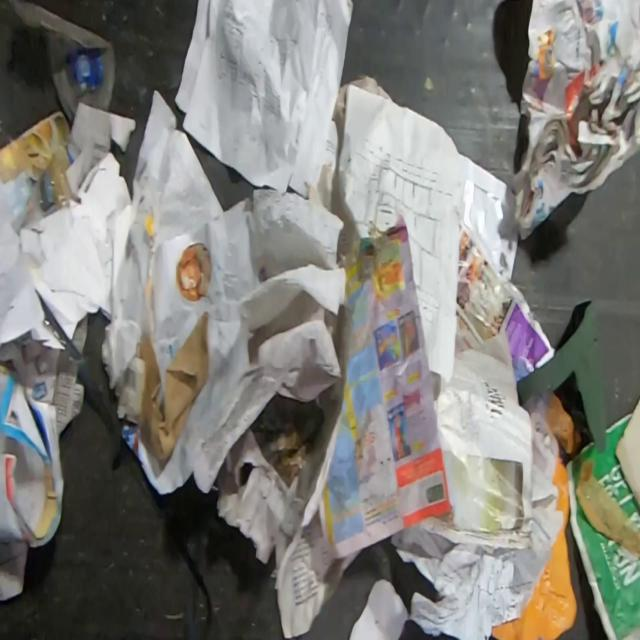cardboard: (18, 102, 140, 345), (516, 297, 608, 455), (136, 310, 210, 472), (348, 576, 411, 640), (612, 393, 640, 511)
rigid_plastic: (76, 363, 213, 630)
soft_plastic: (491, 455, 578, 640), (2, 0, 118, 128), (574, 457, 640, 562), (26, 152, 73, 223), (545, 393, 583, 461)
